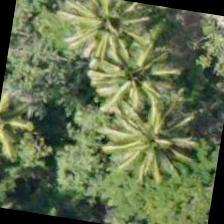Kelapa_Sawit: (100, 88, 204, 191), (83, 23, 186, 126), (55, 0, 156, 74)
